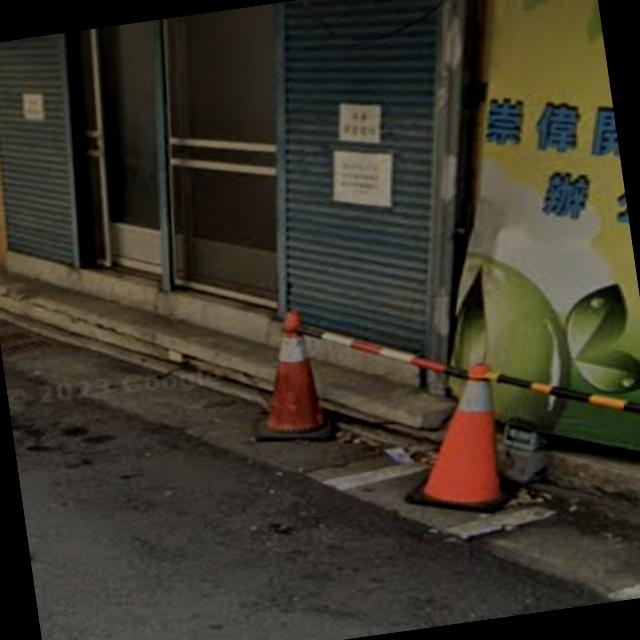cone: (406, 339, 528, 521), (236, 300, 340, 446)
